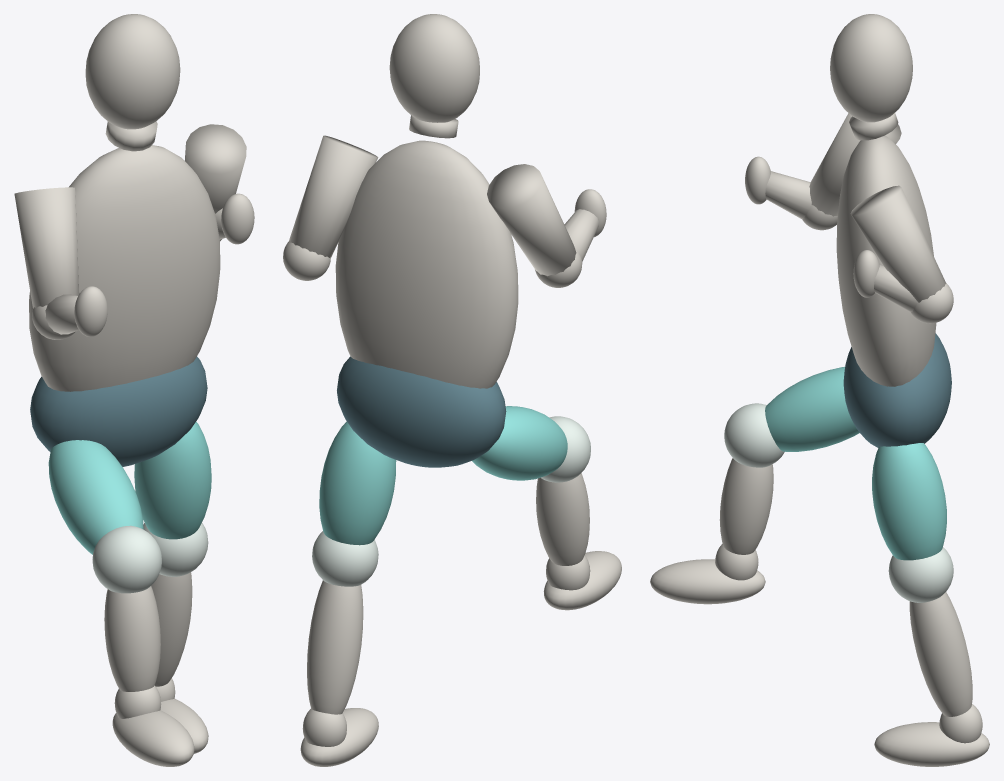
The model's file is movement-running.glb.
3 renders of one model, left to right at view 1: azimuth 30°, elevation 25°; view 2: azimuth 150°, elevation 25°; view 3: azimuth 270°, elevation 25°, orthographic. The views are drawn at different scales.
Parts seen in each view (by area): view 1: static #eee5d3, static #49bdb4, static #203c48, static #c7ddd2; view 2: static #eee5d3, static #203c48, static #49bdb4, static #c7ddd2; view 3: static #eee5d3, static #49bdb4, static #203c48, static #c7ddd2.
Boxes of the visible parts, <box> form: static #eee5d3: <box>14,14,254,766</box>; static #49bdb4: <box>48,421,211,554</box>; static #203c48: <box>30,356,207,466</box>; static #c7ddd2: <box>92,523,208,593</box>; static #eee5d3: <box>283,14,621,766</box>; static #203c48: <box>337,356,506,467</box>; static #49bdb4: <box>319,406,567,545</box>; static #c7ddd2: <box>312,416,590,586</box>; static #eee5d3: <box>650,14,989,766</box>; static #49bdb4: <box>765,366,946,560</box>; static #203c48: <box>843,333,951,447</box>; static #c7ddd2: <box>724,403,953,602</box>.
Size of the model in its own units: 0.148 by 0.4365 by 0.188.
